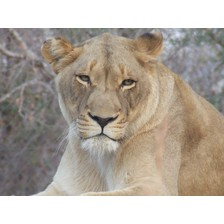lion: (33, 32, 224, 196)
